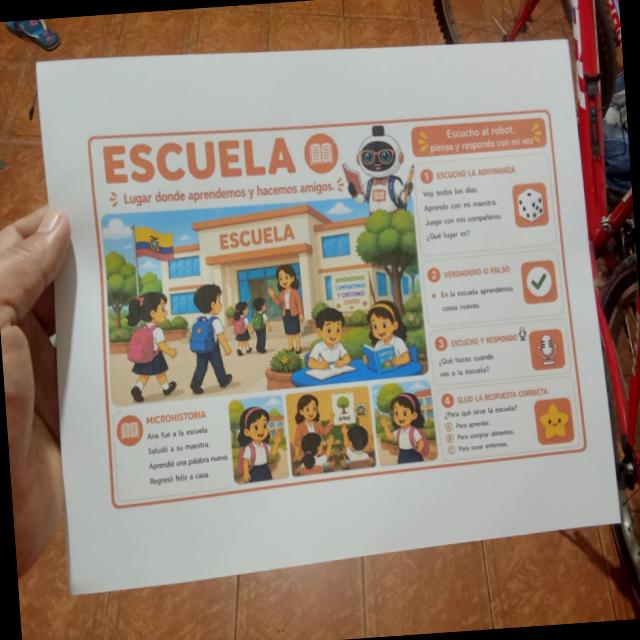escuela: (81, 98, 592, 516)
